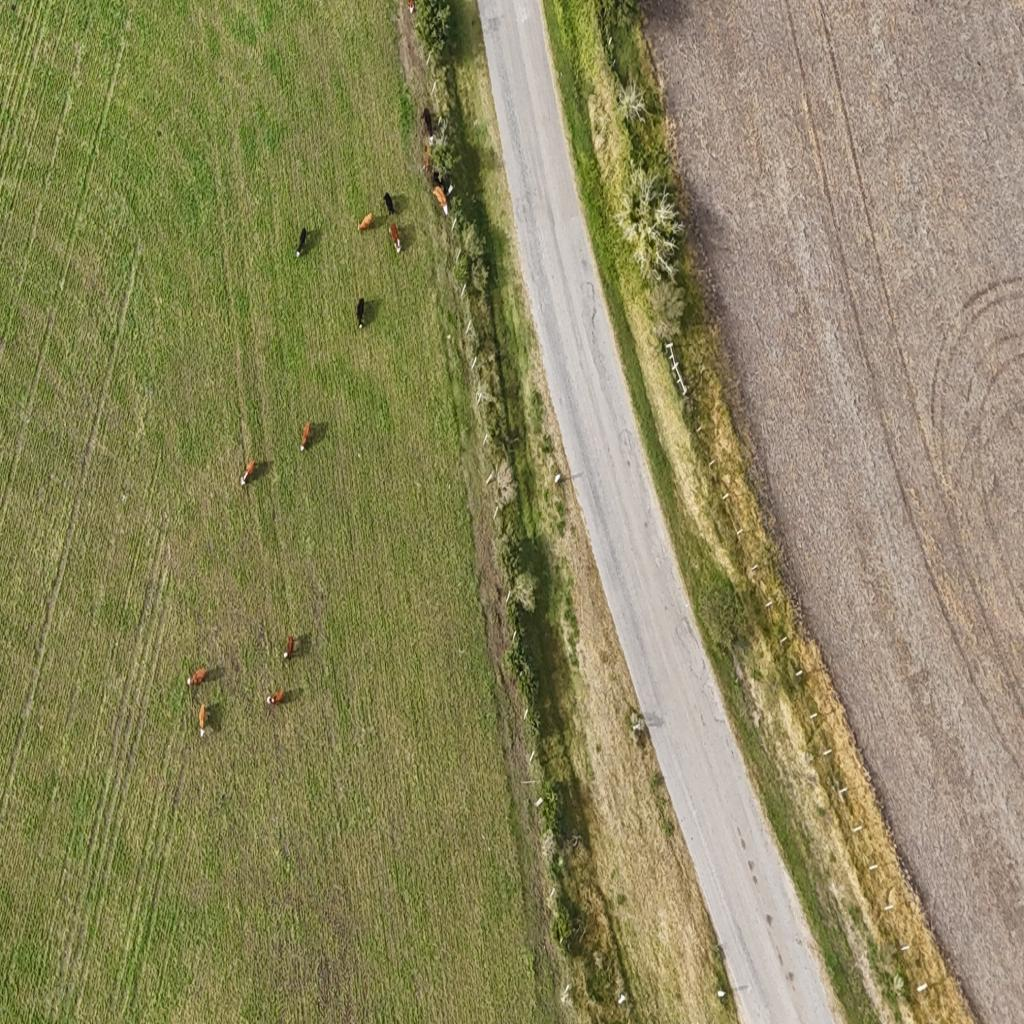cow: (432, 184, 448, 218), (185, 666, 208, 689), (421, 107, 433, 143), (240, 461, 256, 487), (389, 221, 401, 255), (295, 228, 307, 259), (300, 422, 312, 452), (282, 634, 294, 662), (266, 689, 284, 707), (357, 213, 373, 233), (198, 704, 207, 737), (423, 145, 433, 174), (383, 192, 395, 216), (356, 298, 364, 330), (432, 170, 444, 190), (407, 0, 415, 14), (447, 183, 454, 196)
